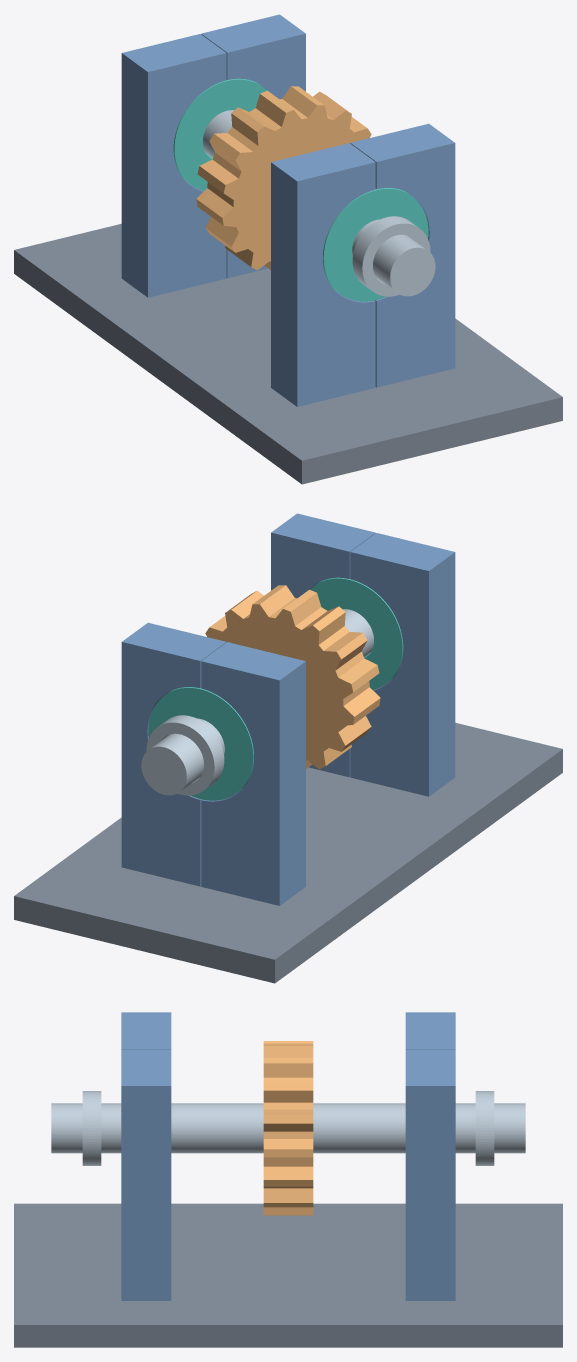
The model's file is assembly.glb.
3 views of the same model, one above another, from view 1: azimuth 30°, elevation 25°; view 2: azimuth 150°, elevation 25°; view 3: azimuth 270°, elevation 25° (orthographic). The views are drawn at different scales.
Visible parts, largest first — view 1: base, rear_housing_left, front_housing_left, rear_housing_right, gear, front_housing_right, rear_bearing, front_bearing, shaft, rear_retainer; view 2: base, front_housing_left, rear_housing_left, front_housing_right, gear, rear_housing_right, front_bearing, rear_bearing, shaft, front_retainer; view 3: base, shaft, front_housing_right, rear_housing_right, gear, front_housing_left, rear_housing_left, front_retainer, rear_retainer.
Boxes of the visible parts, x1,y1,x2,y2 form: base: (14,223,562,484); rear_housing_left: (271,143,375,406); front_housing_left: (121,34,226,297); rear_housing_right: (350,123,455,387); gear: (196,86,371,270); front_housing_right: (201,14,305,278); rear_bearing: (323,188,428,301); front_bearing: (173,78,266,190); shaft: (203,110,435,296); rear_retainer: (352,216,430,296); base: (14,722,562,983); front_housing_left: (201,642,305,905); rear_housing_left: (350,533,455,796); front_housing_right: (121,622,226,886); gear: (205,585,380,769); rear_housing_right: (271,513,375,777); front_bearing: (148,687,253,800); rear_bearing: (310,577,403,689); shaft: (141,609,373,795); front_retainer: (146,715,224,795); base: (14,1203,562,1347); shaft: (51,1103,525,1153); front_housing_right: (405,1049,455,1300); rear_housing_right: (121,1049,171,1300); gear: (263,1041,313,1215); front_housing_left: (405,1012,455,1049); rear_housing_left: (121,1012,171,1049); front_retainer: (475,1091,494,1165); rear_retainer: (82,1091,101,1165).
Size of the model in its own units: 0.0397 by 0.0362 by 0.0759.
